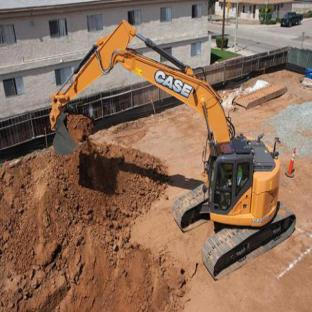ExcavationMachinery: (33, 30, 282, 267)
